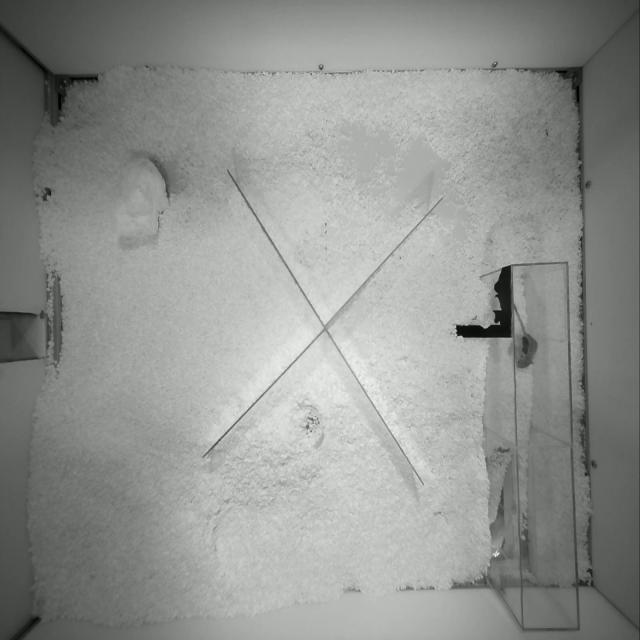pup_v_stripe: (514, 306, 537, 368)
